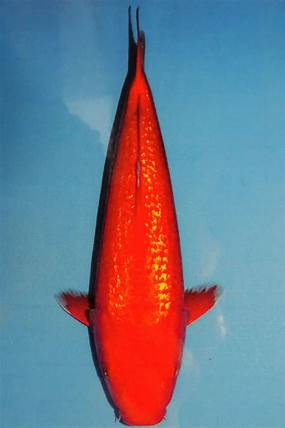red: (55, 8, 223, 424)
